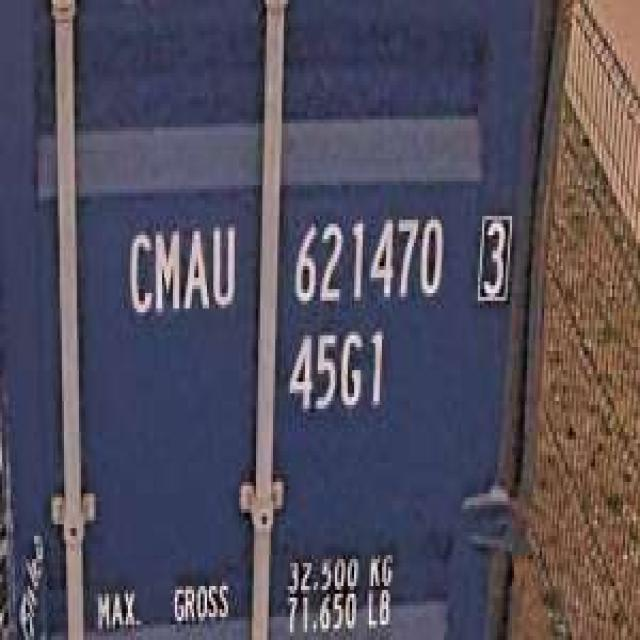dv: (469, 200, 516, 308)
owner: (122, 212, 239, 328)
serial: (286, 205, 448, 312)
size: (282, 320, 391, 424)
